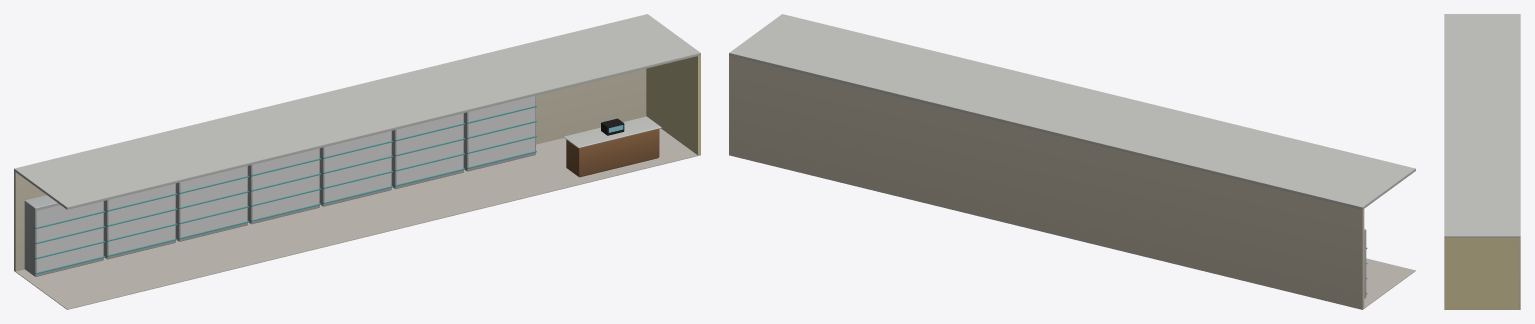
Rendered from DrugstoreAisleMIA.fbx.
3 views of the same model, side by side, from view 1: azimuth 30°, elevation 25°; view 2: azimuth 150°, elevation 25°; view 3: azimuth 270°, elevation 25° (orthographic). The views are drawn at different scales.
Visible parts, largest first — view 1: DrugstoreAisleMIA; view 2: DrugstoreAisleMIA; view 3: DrugstoreAisleMIA.
Boxes of the visible parts, x1,y1,x2,y2 form: DrugstoreAisleMIA: [14, 14, 700, 309]; DrugstoreAisleMIA: [729, 14, 1415, 309]; DrugstoreAisleMIA: [1444, 14, 1520, 309].
Bounding box in the file's own units: 22 × 3.4 × 3.2.
